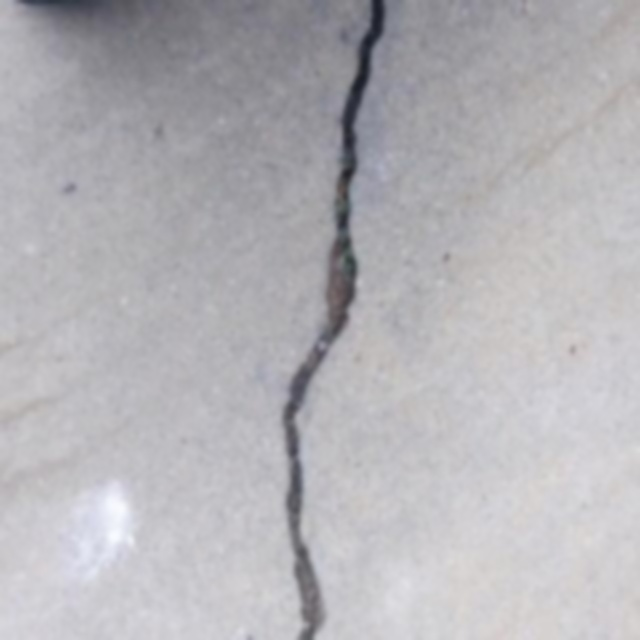SurfaceCrack: (258, 2, 392, 640)
